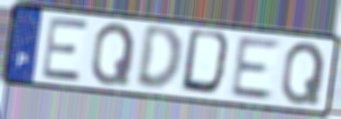D: (179, 27, 237, 100), (133, 25, 185, 94)
E: (228, 36, 284, 102), (40, 16, 89, 84)
Q: (89, 20, 138, 87), (279, 39, 328, 106)
